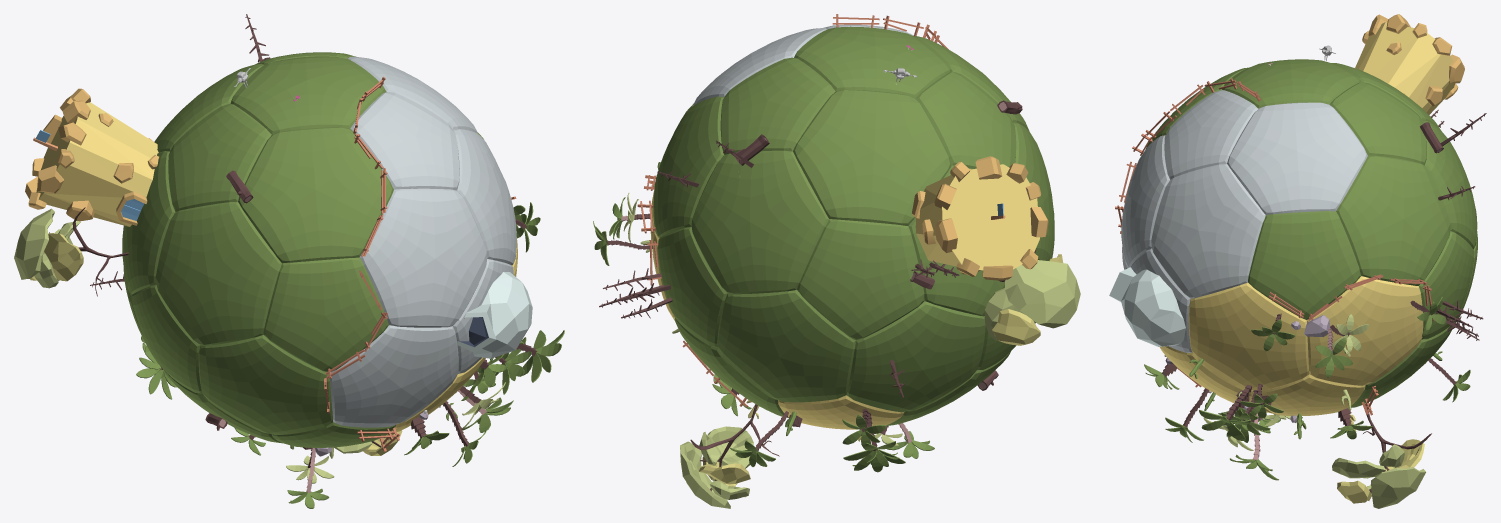
File: PlanetWIP.fbx
3 views of the same model, side by side, from view 1: azimuth 30°, elevation 25°; view 2: azimuth 150°, elevation 25°; view 3: azimuth 270°, elevation 25° (orthographic). The views are drawn at different scales.
Visible parts, largest first — view 1: PlanetBase, polySurface2, GreenTreeCarla (×2), Igloo, polySurface12, duo_palm1 (×2), palm03 (×2), palm02, polySurface20; view 2: PlanetBase, GreenTreeCarla (×2), polySurface2, polySurface12, duo_palm1 (×2), palm03, palm01, palm02; view 3: PlanetBase, polySurface2, GreenTreeCarla, Igloo, palm02 (×4), duo_palm1 (×2), polySurface12, palm01 (×2), mini_palm1 (×2), palm03, RockCarl04.
Boxes of the visible parts, left/top/right/bottom form: PlanetBase: left=122, top=52, right=517, bottom=447; polySurface2: left=36, top=102, right=158, bottom=226; GreenTreeCarla (×2): left=14, top=207, right=402, bottom=455; Igloo: left=457, top=272, right=532, bottom=358; polySurface12: left=25, top=88, right=158, bottom=221; duo_palm1 (×2): left=286, top=382, right=513, bottom=508; palm03 (×2): left=136, top=337, right=531, bottom=399; palm02: left=516, top=330, right=564, bottom=382; polySurface20: left=116, top=191, right=147, bottom=225; PlanetBase: left=650, top=24, right=1054, bottom=429; GreenTreeCarla (×2): left=680, top=248, right=1080, bottom=508; polySurface2: left=915, top=164, right=1039, bottom=270; polySurface12: left=911, top=156, right=1048, bottom=280; duo_palm1 (×2): left=609, top=193, right=934, bottom=458; palm03: left=843, top=412, right=905, bottom=472; palm01: left=842, top=408, right=886, bottom=448; palm02: left=730, top=411, right=788, bottom=466; PlanetBase: left=1121, top=59, right=1477, bottom=415; polySurface2: left=1355, top=22, right=1454, bottom=114; GreenTreeCarla: left=1332, top=404, right=1431, bottom=508; Igloo: left=1109, top=267, right=1185, bottom=346; palm02 (×4): left=1165, top=297, right=1470, bottom=442; duo_palm1 (×2): left=1203, top=314, right=1368, bottom=480; polySurface12: left=1355, top=14, right=1464, bottom=106; palm01 (×2): left=1240, top=313, right=1295, bottom=418; mini_palm1 (×2): left=1144, top=364, right=1372, bottom=439; palm03: left=1214, top=390, right=1270, bottom=442; RockCarl04: left=1304, top=315, right=1330, bottom=336.
Size of the model in its own units: 4467 by 3914 by 3391.
